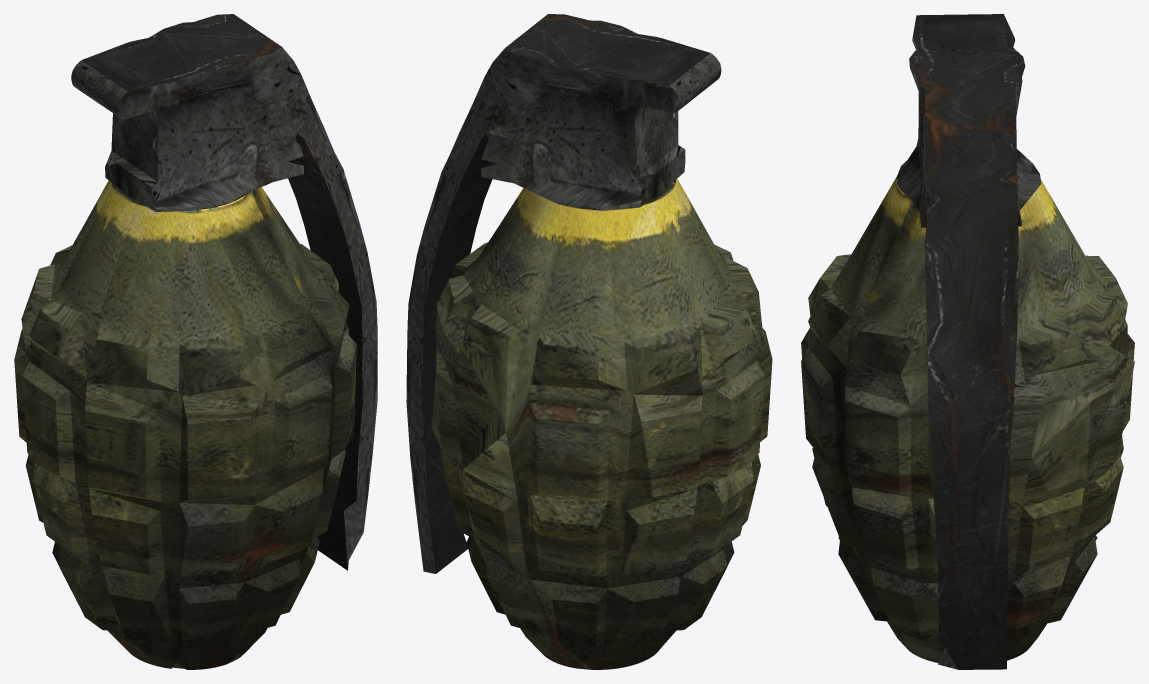
File: Ammo_Grenade.fbx
3 renders of one model, left to right at view 1: azimuth 30°, elevation 25°; view 2: azimuth 150°, elevation 25°; view 3: azimuth 270°, elevation 25°, orthographic.
Visible parts, largest first — view 1: pasted__pasted__polySurface2; view 2: pasted__pasted__polySurface2; view 3: pasted__pasted__polySurface2.
Boxes of the visible parts, x1,y1,x2,y2 form: pasted__pasted__polySurface2: (14, 14, 377, 669); pasted__pasted__polySurface2: (406, 14, 772, 669); pasted__pasted__polySurface2: (801, 14, 1134, 669).
Bounding box in the file's own units: 1.83 × 3.23 × 1.66.
